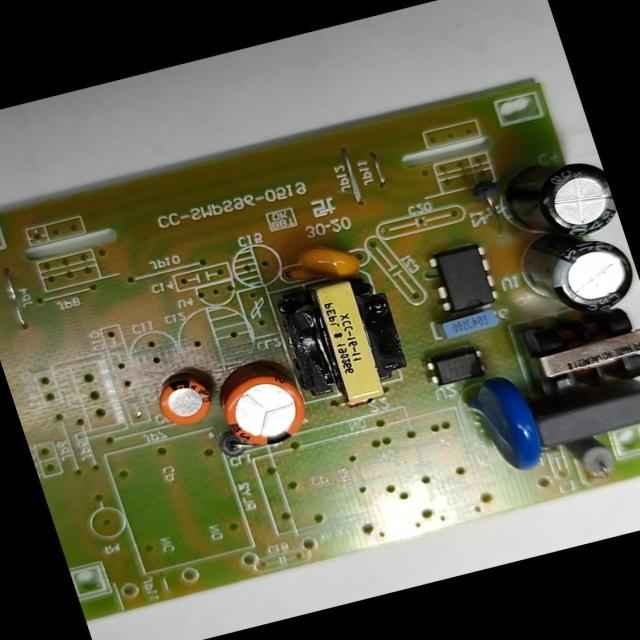Cap1: (205, 367, 318, 459)
Cap2: (151, 369, 223, 432)
Cap3: (514, 224, 640, 331)
Cap4: (491, 153, 622, 254)
MOSFET: (423, 242, 504, 316)
Mov: (454, 372, 552, 484)
Resistor: (558, 433, 624, 485)
Transformer: (272, 268, 424, 417), (517, 299, 639, 405)
